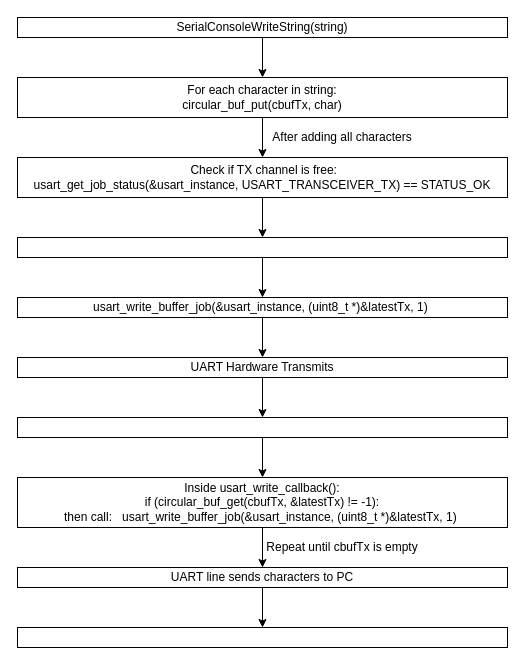
The diagram is 525 pixels wide and 665 high, and some of its shapes have lost their labels. Here are the shapes that lost their labels. From the top down, the box of each, then its label:
(16, 236, 508, 258): circular_buf_get(cbufTx, &latestTx)
(16, 416, 508, 438): Transmission complete → ISR triggers
(16, 626, 508, 648): PC Terminal (TeraTerm) Displays
